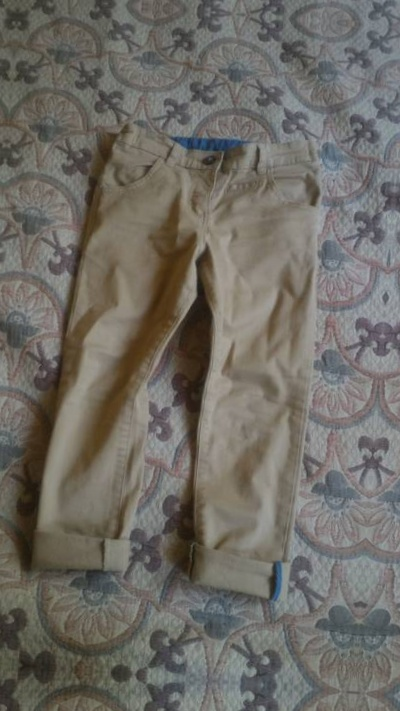Pants: (2, 69, 359, 620)
